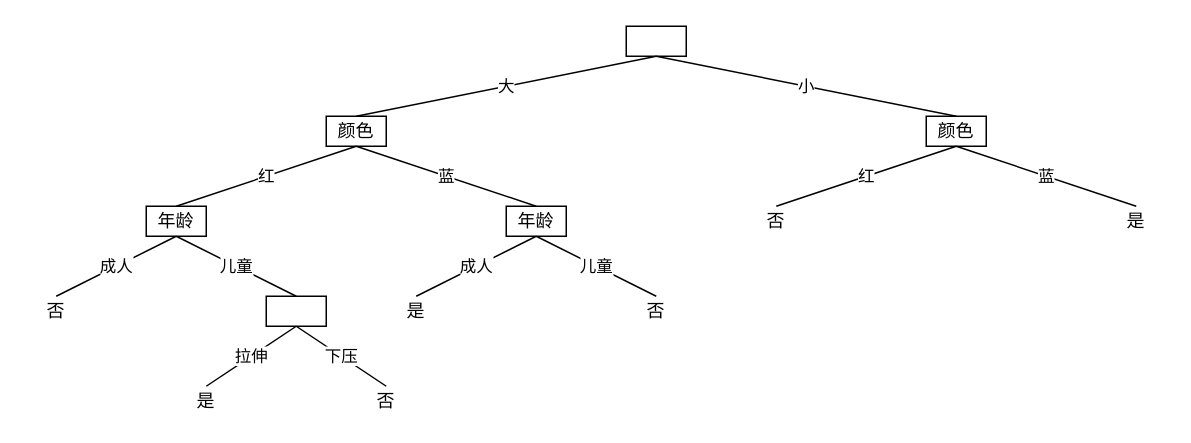
This 1191x443 diagram has some shape labels left out. The shapes that lost their labels are listed below. From the top down, each one's centre as x and y in pixels, then its label:
(x=655, y=40): 大小
(x=295, y=310): 动作
